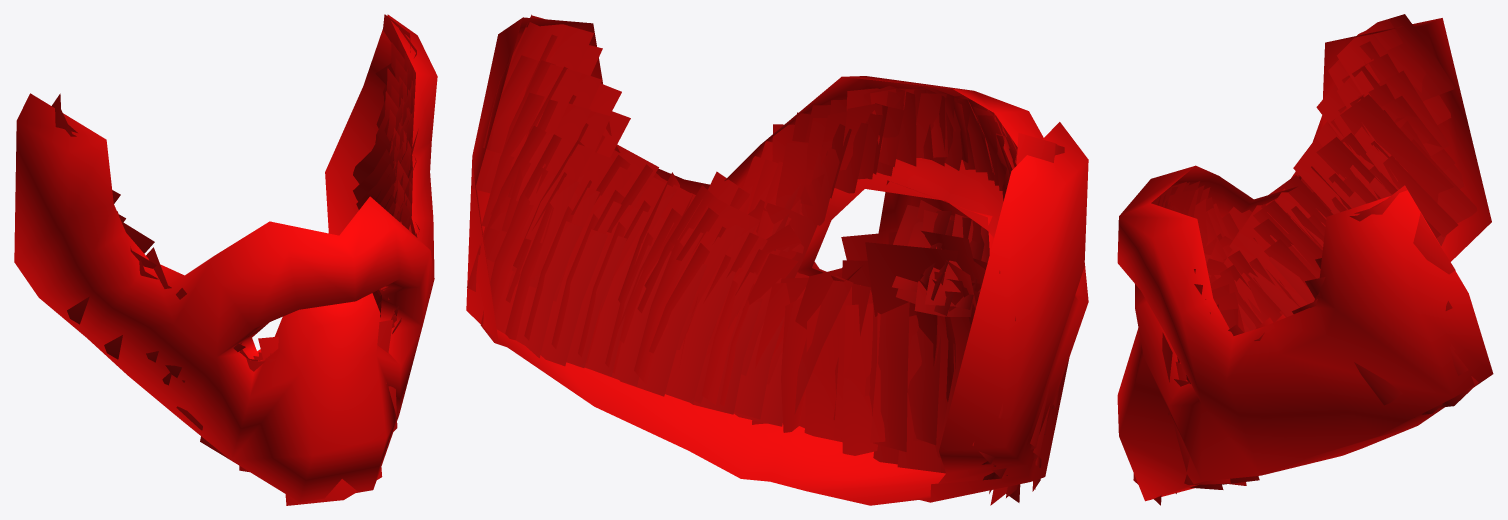
Rendered from berd_000_r_high.FBX.
3 views of the same model, side by side, from view 1: azimuth 30°, elevation 25°; view 2: azimuth 150°, elevation 25°; view 3: azimuth 270°, elevation 25° (orthographic). The views are drawn at different scales.
Parts seen in each view (by area): view 1: berd_000_r_high; view 2: berd_000_r_high; view 3: berd_000_r_high.
Part boxes in pixels (x1=…): berd_000_r_high: x1=14, y1=14, x2=437, y2=505; berd_000_r_high: x1=466, y1=14, x2=1088, y2=505; berd_000_r_high: x1=1117, y1=14, x2=1493, y2=505.
Size of the model in its own units: 0.1646 by 0.1436 by 0.1265.
